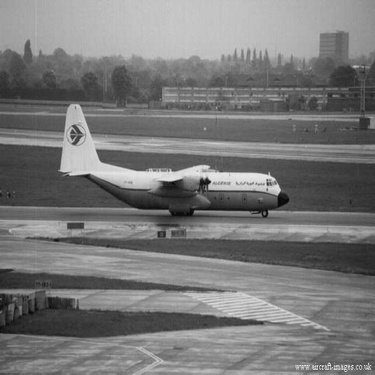airplane: (43, 89, 307, 230)
